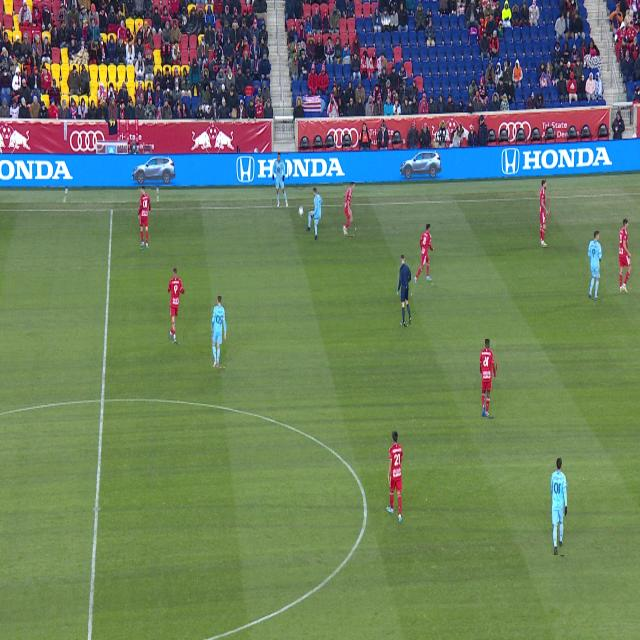football: (299, 206, 303, 216)
player: (551, 459, 567, 555), (387, 432, 402, 521), (480, 339, 496, 417), (414, 224, 434, 283), (169, 269, 183, 343), (212, 296, 226, 367), (619, 219, 632, 292), (305, 188, 322, 239), (273, 152, 288, 207), (589, 231, 601, 299), (138, 187, 151, 248), (343, 183, 355, 235), (540, 181, 549, 246)
referee: (398, 255, 411, 325)
